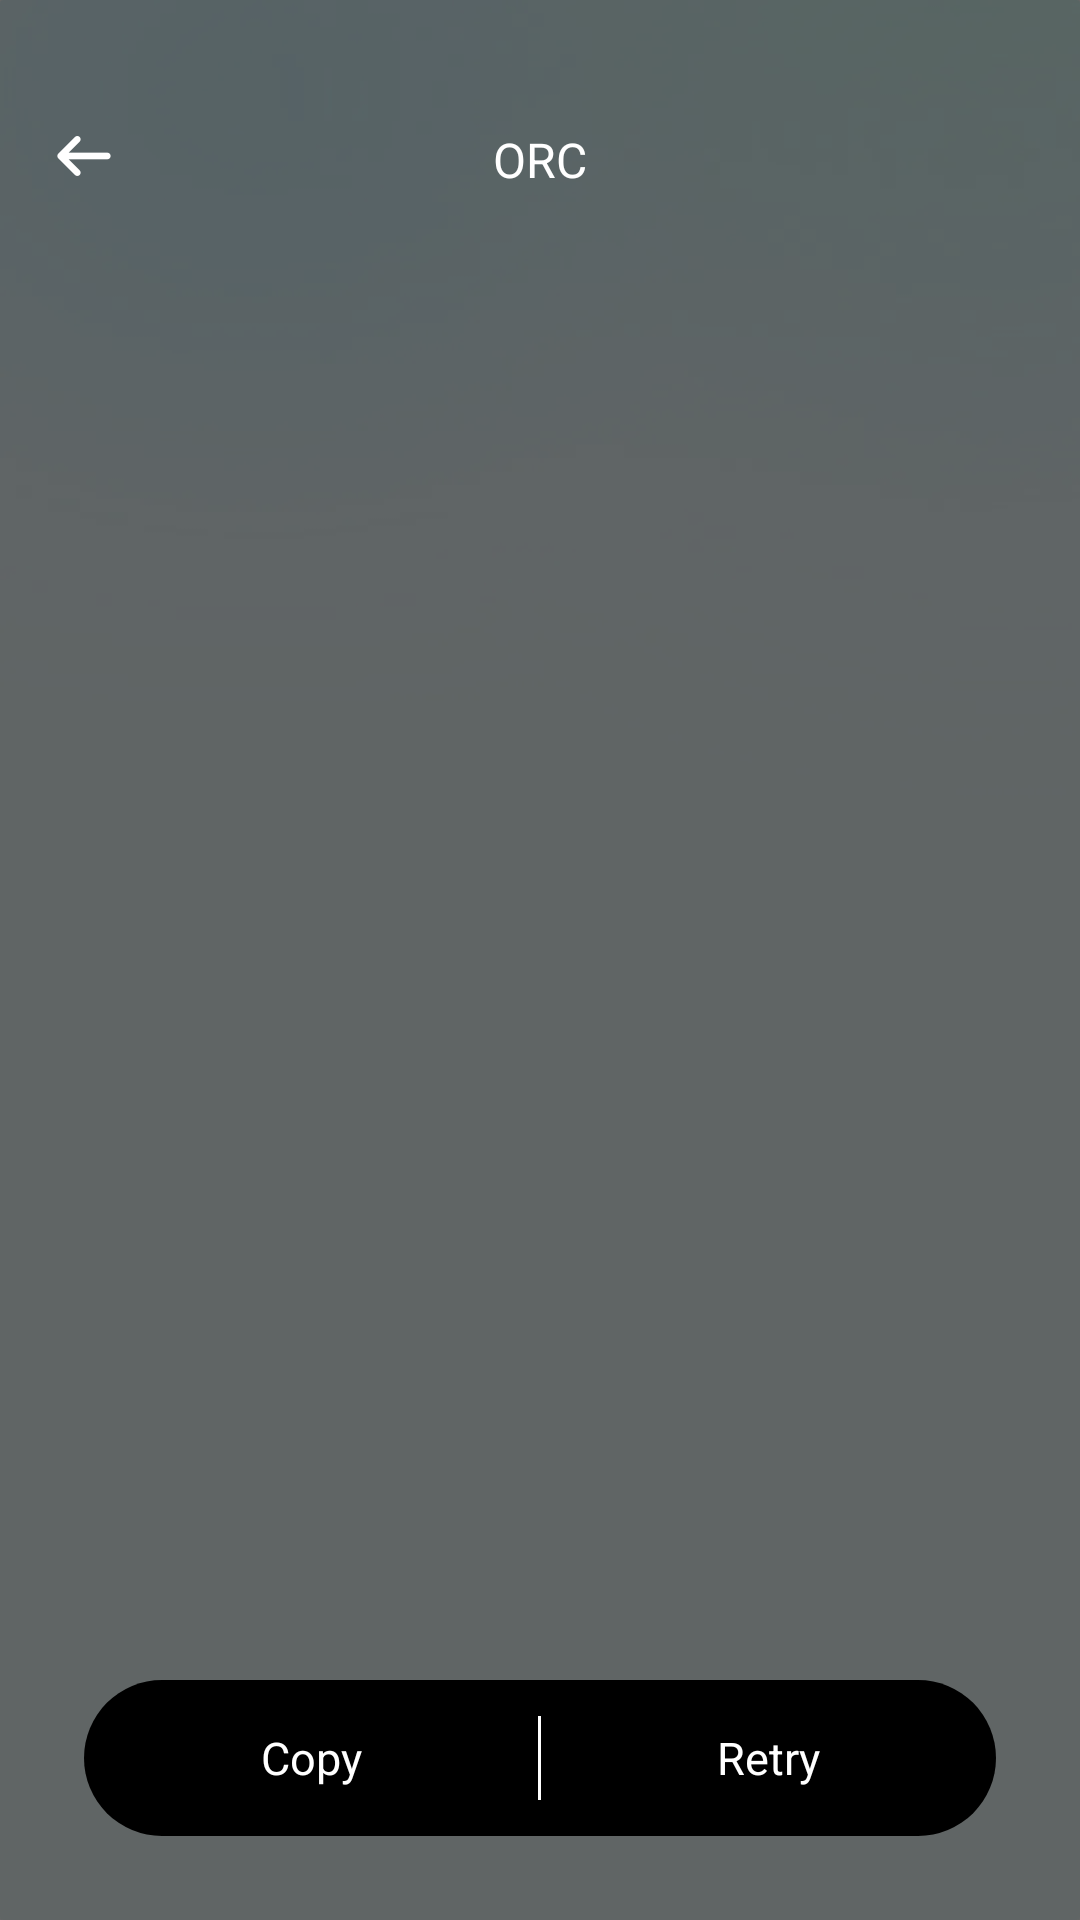

Where to tap for icons on this 1080x1920 app screen, as [x,y]:
back: [84,156]
